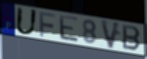8: (81, 19, 98, 45)
B: (122, 24, 142, 53)
E: (58, 14, 80, 44)
F: (38, 11, 57, 39)
U: (14, 6, 39, 36)
V: (100, 19, 122, 51)
